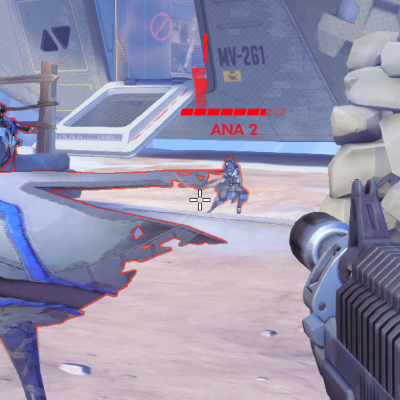hpbar: (180, 108, 287, 116)
